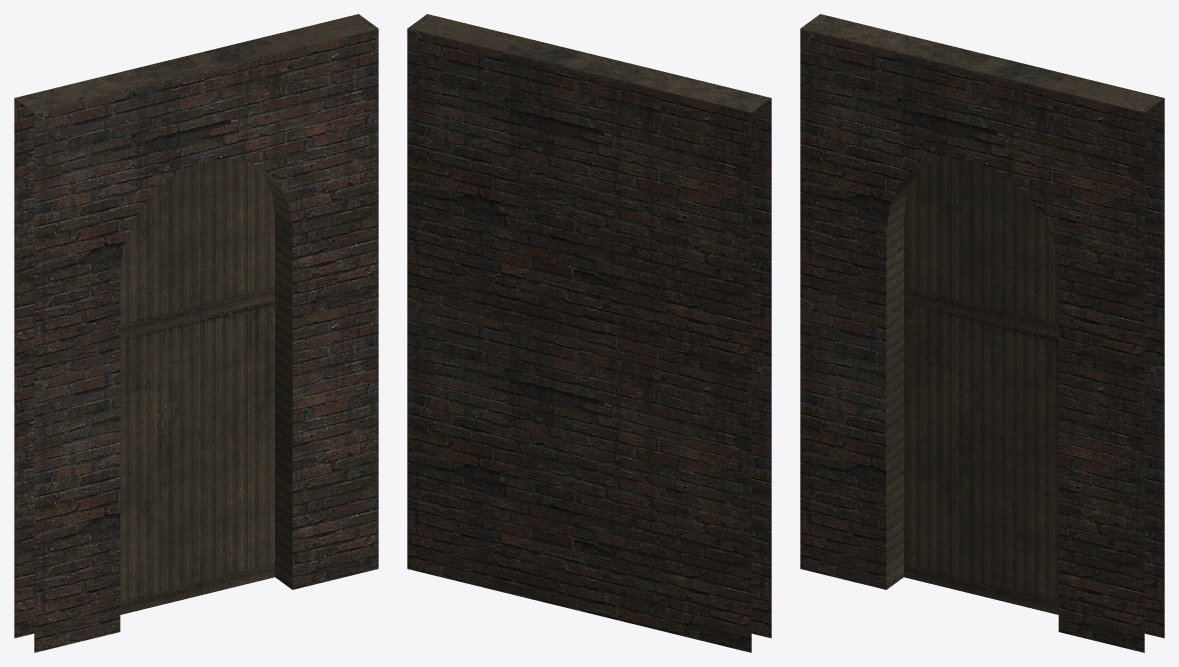
The model's file is wall_hs_15_double.dae.
3 renders of one model, left to right at view 1: azimuth 30°, elevation 25°; view 2: azimuth 150°, elevation 25°; view 3: azimuth 330°, elevation 25°, orthographic.
Visible parts, largest first — view 1: wall_hs_15_double; view 2: wall_hs_15_double; view 3: wall_hs_15_double.
Part boxes in pixels (left/top/right/bottom): wall_hs_15_double: left=14, top=14, right=378, bottom=652; wall_hs_15_double: left=407, top=14, right=771, bottom=652; wall_hs_15_double: left=800, top=14, right=1164, bottom=652.
Size of the model in its own units: 4 by 0.4 by 6.
Materials: 3 (3 with a texture image).
